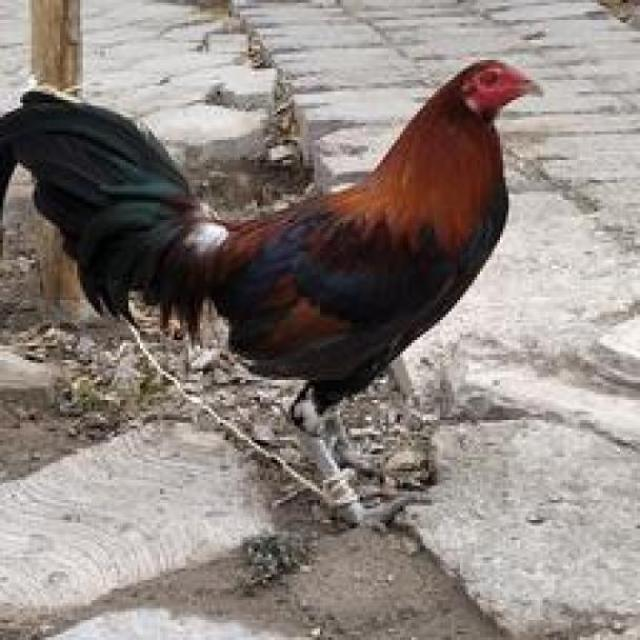Chicken: (0, 37, 555, 535)
